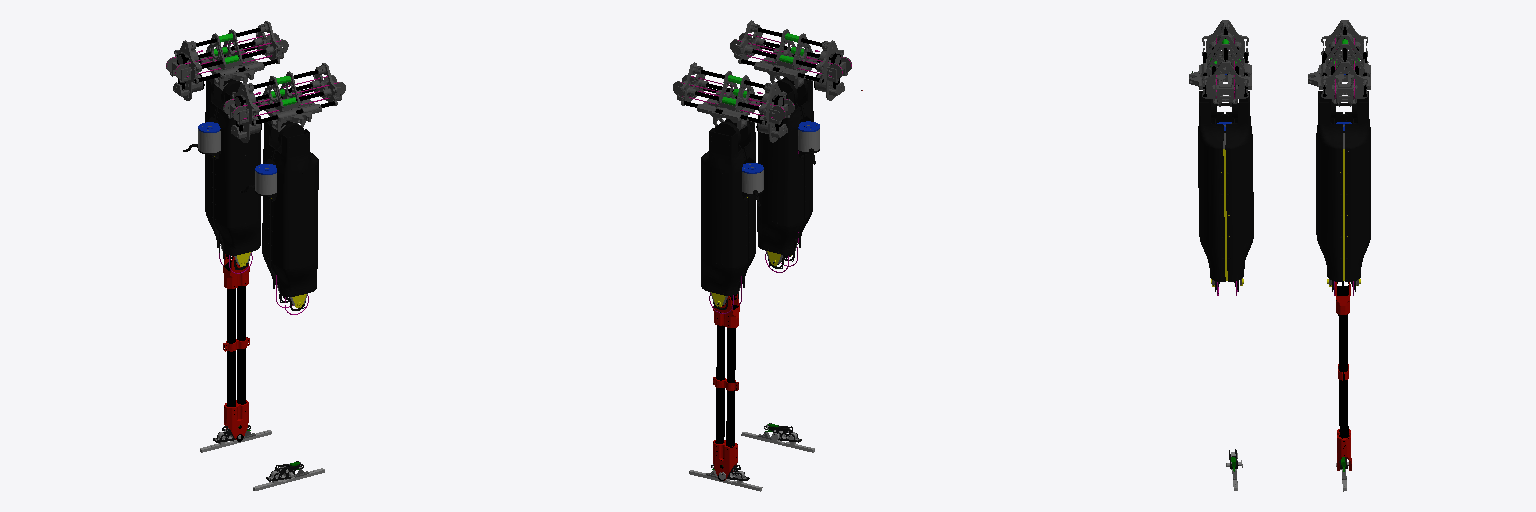
robot.urdf — mercury:
<?xml version="1.0" ?>
<robot name="mercury" xmlns:xacro="http://ros.org/wiki/xacro">
  <!-- ===== DUMMY 'BASE' LINK ==== -->
  <link name="body">
    <inertial>
      <!-- <mass value="8.9"/> -->
      <mass value="9.5"/>
      <!-- <origin xyz="0.00347 0.0 0.22524"/> -->
      <origin xyz="-0.04 0.0 0.22524"/>
      <inertia ixx="0.3006167" ixy="0" ixz="0" iyy="0.23837" iyz="0" izz="0.09690467"/>
    </inertial>
<!--      <visual>
      <geometry>
          <mesh filename="Updated_torso.3ds" scale="0.001 0.001 0.001"/>
      </geometry>
      <origin rpy="3.14159 0 1.5708" xyz="-.415 -0.21 -0.07"/>
    </visual> -->
    <visual>
      <geometry>
         <mesh filename="meshes/color_torso.dae" scale="0.001 0.001 0.001"/>
      </geometry>
      <origin rpy="1.57079 0 1.5708" xyz="-0.165 -0.21 -0.033"/>
    </visual>
  </link>
  <!-- IMU -->
  <joint name="fixed_imu" type="fixed">
    <axis xyz="0 1 0"/>
    <origin rpy="0 0 0" xyz="-0.02 -0.07 0.22"/>
    <parent link="body"/>
    <child link="imu" />
  </joint>
  <link name="imu">
    <inertial>
      <mass value="0.0000000000001"/>
      <origin xyz="0.0 0.0 0.0"/>
      <inertia ixx="0.0000000001" ixy="0" ixz="0.0" iyy="0.000000001" iyz="0" izz="0.00000000001"/>
    </inertial>
  </link>


  <!--!!!!!!!!!!!!!!!!!!!!!RIGHT LEG!!!!!!!!!!!!!!!!!!!!!!!!!!!!!!!!!!!!!!!!!!!!!!!!-->
  <joint name="1_torso_to_abduct_r_j" type="continuous">
    <axis xyz="1 0 0"/>
    <origin rpy="0 0 0" xyz="0.0 -0.1397 0.0"/>
    <parent link="body"/>
    <child link="abduct_r"/>
  </joint>
  <link name="abduct_r">
    <inertial>
      <mass value="2.1656"/>
      <origin xyz="-0.03416 -0.00075 0.04293"/>
      <inertia ixx="0.003735" ixy="0.0" ixz="0.0" iyy="0.01391" iyz="0.0" izz="0.01355"/>
    </inertial>
<!--      <visual>
      <geometry>
	      <mesh filename="abduction.3ds" scale="0.001 0.001 0.001"/>
      </geometry>
      <origin rpy="3.14159 0 1.5708" xyz="-0.167 -0.083 -0.043"/>
    </visual>  -->
    <visual>
      <geometry>
        <mesh filename="meshes/color_abduction_R.dae" scale="0.001 0.001 0.001"/>
      </geometry>
      <origin rpy="3.14159 0 1.5708" xyz="-0.181 -0.073 -0.023"/>
    </visual>
  </link>

  <joint name="abduct_r_to_thigh_r_j" type="continuous">
    <axis xyz="0 1 0"/>
    <!-- <origin rpy="0 0 0.0" xyz="0.0 0.0 -0.03535"/> -->
    <origin rpy="0.015 0.0 -0.02" xyz="0.0 0.0 -0.03535"/>
    <parent link="abduct_r"/>
    <child link="thigh_r"/>
  </joint>
  <link name="thigh_r">
    <inertial>
      <!-- <mass value="3.682"/> -->
      <mass value="3.2"/>
      <origin xyz="-0.00396 0.000018 -0.175"/>
      <inertia ixx="0.038482" ixy="0" ixz="0.0" iyy="0.039835" iyz="-0.003" izz="0.0042934"/>
    </inertial>
<!--      <visual>
      <geometry>
        <mesh filename="Updated_thigh.3ds" scale="0.001 0.001 0.001"/>
      </geometry>
      <origin rpy="3.14159 0 1.5708" xyz="-0.106 -0.062 -0.495"/>
    </visual>  -->
    <visual>
      <geometry>
        <mesh filename="meshes/color_thigh_L.dae" scale="0.001 0.001 0.001"/>
      </geometry>
      <origin rpy="3.14159 0 1.5708" xyz="-0.106 -0.062 -0.49"/>
    </visual>
  </link>

  <joint name="thigh_r_to_knee_r_j" type="continuous">
    <axis xyz="0 1 0"/>
    <!--<origin rpy="0 0 -0.05974278" xyz="0.0181 0.0 -0.4575"/>-->
    <origin rpy="0.02 0 0.04" xyz="0.0181 0.005 -0.4575"/>
    <parent link="thigh_r"/>
    <child link="shank_r"/>
  </joint>
  <link name="shank_r">
    <inertial>
      <mass value="0.649"/>
      <origin xyz="0.0 0.0 -0.235"/>
      <inertia ixx="0.00338" ixy="0" ixz="0.0" iyy="0.00338" iyz="0" izz="0.000011"/>
    </inertial>
<!--      <visual>
      <geometry>
	      <mesh filename="Updated_shin.3ds" scale="0.001 0.001 0.001"/>
      </geometry>
      <origin rpy="3.14159 1.0756 0" xyz="-0.246 0.0565 -0.093"/>
    </visual>  -->
    <visual>
      <geometry>
        <mesh filename="meshes/color_shank_R.dae" scale="0.001 0.001 0.001"/>
      </geometry>
      <origin rpy="3.14159 1.075 0" xyz="-0.218 0.0565 -0.092"/>
    </visual>
  </link>

  <joint name="ankle_r" type="continuous">
    <axis xyz="0 1 0"/>
    <origin rpy="0 0 0" xyz="0.0 0.0 -0.47"/>
    <parent link="shank_r"/>
    <child link="rfoot" />
  </joint>
  <link name="rfoot">
    <inertial>
      <mass value="0.123"/>
      <origin xyz="0.0 0.0 0.0"/>
      <inertia ixx="0.00001" ixy="0" ixz="0.0" iyy="0.00001" iyz="0" izz="0.00001"/>
    </inertial>
<!--      <visual>
      <geometry>
	      <mesh filename="Updated_foot.3ds" scale="0.001 0.001 0.001"/>
      </geometry>
      <origin rpy="3.14159 1.3808 0" xyz="-0.184 0.0558 0.398"/>
    </visual>  -->
    <visual>
      <geometry>
        <mesh filename="meshes/color_foot_R.dae" scale="1 1 1"/>
      </geometry>
      <origin rpy="1.84159 1.3608 0.275" xyz="0.090 0.028 0.454"/>
    </visual>
    <collision>
      <geometry>
        <box size="0.2 0.01 0.01"/>
      </geometry>
      <origin rpy="0.0 0.0 0.0" xyz="0.0 0.0 -0.018"/>
    </collision>
  </link>

  <!--!!!!!!!!!!!!!!!!!!!!!left LEG!!!!!!!!!!!!!!!!!!!!!!!!!!!!!!!!!!!!!!!!!!!!!!!!-->
  <joint name="2_torso_to_abduct_l_j" type="continuous">
    <axis xyz="1 0 0"/>
    <origin rpy="0 0 0" xyz="0.0 0.1397 0.0"/>
    <parent link="body"/>
    <child link="abduct_l"/>
  </joint>
  <link name="abduct_l">
    <inertial>
      <mass value="2.1656"/>
      <origin xyz="-0.03416 0.00075 0.04293"/>
      <inertia ixx="0.003735" ixy="0.0" ixz="0.0" iyy="0.01391" iyz="0.0" izz="0.01355"/>
    </inertial>
    <!-- <visual>
      <geometry>
	      <mesh filename="abduction.3ds" scale="0.001 0.001 0.001"/>
      </geometry>
      <origin rpy="3.14159 0 1.5708" xyz="-0.167 -0.083 -0.043"/>
    </visual> -->
    <visual>
      <geometry>
        <mesh filename="meshes/color_abduction_L.dae" scale="0.001 0.001 0.001"/>
      </geometry>
      <!-- <origin rpy="1.5708 0 1.5708" xyz="0.0 0.0 -0.038"/> -->
      <origin rpy="3.14159 0 1.5708" xyz="-0.181 -0.073 -0.023"/>
    </visual>
  </link>

  <joint name="abduct_l_to_thigh_l_j" type="continuous">
    <axis xyz="0 1 0"/>
    <origin rpy="0.0 0 0.01" xyz="0.0 0.0 -0.03535"/>
    <parent link="abduct_l"/>
    <child link="thigh_l"/>
  </joint>
  <link name="thigh_l">
    <inertial>
      <!-- <mass value="3.682"/> -->
      <mass value="3.2"/>
      <!-- <origin xyz="-0.00396 -0.000018 -0.24"/> -->
      <origin xyz="-0.00396 -0.000018 -0.175"/>
      <inertia ixx="0.038482" ixy="0" ixz="0.0" iyy="0.039835" iyz="0" izz="0.0042934"/>
    </inertial>
    <!-- <visual>
      <geometry>
	      <mesh filename="Updated_thigh.3ds" scale="0.001 0.001 0.001"/>
      </geometry>
      <origin rpy="3.14159 0 1.5708" xyz="-0.106 -0.062 -0.495"/>
    </visual>  -->
    <visual>
      <geometry>
        <mesh filename="meshes/color_thigh_L.dae" scale="0.001 0.001 0.001"/>
      </geometry>
      <origin rpy="3.14159 0 1.5708" xyz="-0.106 -0.062 -0.49"/>
    </visual>
  </link>

  <joint name="thigh_l_to_knee_l_j" type="continuous">
    <axis xyz="0 1 0"/>
    <!--<origin rpy="0 0 -0.00472424" xyz="0.0181 0.0 -0.4575"/>-->
    <origin rpy=" 0.008 0 0.00" xyz="0.0181 -0.005 -0.4575"/>
    <parent link="thigh_l"/>
    <child link="shank_l"/>
    <!--    <dynamics damping="1.0"/>-->
  </joint>
  <link name="shank_l">
    <inertial>
      <mass value="0.649"/>
      <origin xyz="0.0 0.0 -0.235"/>
      <inertia ixx="0.00338" ixy="0" ixz="0.0" iyy="0.00338" iyz="0" izz="0.000011"/>
    </inertial>
    <!-- <visual>
      <geometry>
	      <mesh filename="Updated_shin.3ds" scale="0.001 0.001 0.001"/>
      </geometry>
      <origin rpy="3.14159 1.0756 0" xyz="-0.246 0.0565 -0.093"/>
    </visual> --> 
    <visual>
      <geometry>
        <mesh filename="meshes/color_shank_L.dae" scale="0.001 0.001 0.001"/>
      </geometry>
      <!-- <origin rpy="1.5708 1.075 0" xyz="-0.043 0.0565 -0.015"/> -->
      <origin rpy="3.14159 1.075 0" xyz="-0.218 0.0605 -0.092"/>
    </visual>
  </link>

  <joint name="ankle_l" type="continuous">
    <axis xyz="0 1 0"/>
    <origin rpy="0 0 0" xyz="0.0 -0.0165 -0.47"/>
    <parent link="shank_l"/>
    <child link="lfoot" />
  </joint>
  <link name="lfoot">
    <inertial>
      <mass value="0.123"/>
      <origin xyz="0.0 0.0 0.0"/>
      <inertia ixx="0.00001" ixy="0" ixz="0.0" iyy="0.00001" iyz="0" izz="0.00001"/>
    </inertial>
<!--     <visual>
      <geometry>
	      <mesh filename="Updated_foot.3ds" scale="0.001 0.001 0.001"/>
      </geometry>
      <origin rpy="3.14159 1.3808 0" xyz="-0.184 0.0558 0.398"/>
    </visual>  -->
    <visual>
      <geometry>
        <mesh filename="meshes/color_foot_L.dae" scale="1 1 1"/>
      </geometry>
      <!-- <origin rpy="1.5708 1.38 0" xyz="0.095 0.0698 0.450"/> -->
      <origin rpy="1.84159 1.3608 0.275" xyz="0.090 0.0508 0.454"/>
    </visual>
    <collision>
      <geometry>
        <box size="0.2 0.01 0.01"/>
      </geometry>
      <origin rpy="0.0 0.0 0.0" xyz="0.0 0.0 -0.018"/>
    </collision>
  </link>

  <!--!!!!!!!!!!!!!!!!!!!!! LED !!!!!!!!!!!!!!!!!!!!!!!!!!!!!!!!!!-->
  <!-- LED_Body 0: attached on the body front -->
  <joint name="fixed_bodyled0" type="fixed">
    <axis xyz="0 1 0"/>
    <origin rpy="0 0 0" xyz="0.077 0.0 0.0"/>
    <parent link="body"/>
    <child link="body_led0" />
  </joint>
  <link name="body_led0">
    <inertial>
      <mass value="0.000000000001"/>
      <origin xyz="0.0 0.0 0.0"/>
      <inertia ixx="0.000000001" ixy="0" ixz="0.0" iyy="0.00000000338" iyz="0" izz="0.000000000011"/>
    </inertial>
  </link>

    <!-- LED_Body 1: attached on the body front -->
  <joint name="fixed_bodyled1" type="fixed">
    <axis xyz="0 1 0"/>
    <origin rpy="0 0 0" xyz="0.077 0.142 0.3"/>
    <parent link="body"/>
    <child link="body_led1" />
  </joint>
  <link name="body_led1">
    <inertial>
      <mass value="0.000000000001"/>
      <origin xyz="0.0 0.0 0.0"/>
      <inertia ixx="0.000000001" ixy="0" ixz="0.0" iyy="0.00000000338" iyz="0" izz="0.000000000011"/>
    </inertial>
  </link>

  <!-- LED_Body 2: attached on the body front -->
  <joint name="fixed_bodyled2" type="fixed">
    <axis xyz="0 1 0"/>
    <origin rpy="0 0 0" xyz="0.077 -0.142 0.3"/>
    <parent link="body"/>
    <child link="body_led2" />
  </joint>
  <link name="body_led2">
    <inertial>
      <mass value="0.000000000001"/>
      <origin xyz="0.0 0.0 0.0"/>
      <inertia ixx="0.000000001" ixy="0" ixz="0.0" iyy="0.00000000338" iyz="0" izz="0.000000000011"/>
    </inertial>
  </link>

  <!-- LED_Right 0: On the Right thigh upper -->
  <joint name="fixed_led1" type="fixed">
    <axis xyz="0 1 0"/>
    <origin rpy="0 0 0" xyz="0.075 0.0 -0.093"/>
    <parent link="thigh_r"/>
    <child link="rleg_led0" />
  </joint>
  <link name="rleg_led0">
    <inertial>
      <mass value="0.000000000001"/>
      <origin xyz="0.0 0.0 0.0"/>
      <inertia ixx="0.000000001" ixy="0" ixz="0.0" iyy="0.00000000338" iyz="0" izz="0.000000000011"/>
    </inertial>
  </link>

  <!-- LED_Right 1: On the Right thigh lower -->
  <joint name="fixed_led2" type="fixed">
    <axis xyz="0 1 0"/>
    <origin rpy="0 0 0" xyz="0.075 0.005 -0.42"/>
    <parent link="thigh_r"/>
    <child link="rleg_led1" />
  </joint>
  <link name="rleg_led1">
    <inertial>
      <mass value="0.000000000001"/>
      <origin xyz="0.0 0.0 0.0"/>
      <inertia ixx="0.000000001" ixy="0" ixz="0.0" iyy="0.000000001" iyz="0" izz="0.000000000011"/>
    </inertial>
  </link>

  <!-- LED_Right 2: On the Right Shank upper -->
  <joint name="fixed_led3" type="fixed">
    <axis xyz="0 1 0"/>
    <origin rpy="0 0 0" xyz="0.0 -0.02 -0.060"/>
    <parent link="shank_r"/>
    <child link="rleg_led2" />
  </joint>
  <link name="rleg_led2">
    <inertial>
      <mass value="0.000000000001"/>
      <origin xyz="0.0 0.0 0.0"/>
      <inertia ixx="0.000000001" ixy="0" ixz="0.0" iyy="0.00000000338" iyz="0" izz="0.000000000011"/>
    </inertial>
  </link>

  <!-- LED_Right 3: On the Right Shank lower (foot) -->
  <joint name="fixed_led4" type="fixed">
    <axis xyz="0 1 0"/>
    <origin rpy="0 0 0" xyz="0.0 -0.0365 -0.47"/>
    <parent link="shank_r"/>
    <child link="rleg_led3" />
  </joint>
  <link name="rleg_led3">
    <inertial>
      <mass value="0.000000000001"/>
      <origin xyz="0.0 0.0 0.0"/>
      <inertia ixx="0.000000001" ixy="0" ixz="0.0" iyy="0.00000000338" iyz="0" izz="0.000000000011"/>
    </inertial>
  </link>

  <!-- LED_Left 0: On the Left thigh upper -->
  <joint name="fixed_led6" type="fixed">
    <axis xyz="0 1 0"/>
    <origin rpy="0 0 0" xyz="0.075 0.0 -0.098"/>
    <parent link="thigh_l"/>
    <child link="lleg_led0" />
  </joint>
  <link name="lleg_led0">
    <inertial>
      <mass value="0.000000000001"/>
      <origin xyz="0.0 0.0 0.0"/>
      <inertia ixx="0.000000001" ixy="0" ixz="0.0" iyy="0.00000000338" iyz="0" izz="0.000000000011"/>
    </inertial>
  </link>

  <!-- LED_Left 1: On the Left thigh lower -->
  <joint name="fixed_led7" type="fixed">
    <axis xyz="0 1 0"/>
    <origin rpy="0 0 0" xyz="0.075 -0.005 -0.42"/>
    <parent link="thigh_l"/>
    <child link="lleg_led1" />
  </joint>
  <link name="lleg_led1">
    <inertial>
      <mass value="0.000000000001"/>
      <origin xyz="0.0 0.0 0.0"/>
      <inertia ixx="0.000000001" ixy="0" ixz="0.0" iyy="0.000000001" iyz="0" izz="0.000000000011"/>
    </inertial>
  </link>

  <!-- LED_Left 2: On the Left Shank upper -->
  <joint name="fixed_led8" type="fixed">
    <axis xyz="0 1 0"/>
    <origin rpy="0 0 0" xyz="0.0 0.02 -0.062"/>
    <parent link="shank_l"/>
    <child link="lleg_led2" />
  </joint>
  <link name="lleg_led2">
    <inertial>
      <mass value="0.000000000001"/>
      <origin xyz="0.0 0.0 0.0"/>
      <inertia ixx="0.000000001" ixy="0" ixz="0.0" iyy="0.00000000338" iyz="0" izz="0.000000000011"/>
    </inertial>
  </link>

  <!-- LED_Left 3: On the Left Shank lower -->
  <joint name="fixed_led9" type="fixed">
    <axis xyz="0 1 0"/>
    <origin rpy="0 0 0" xyz="0.0 0.02 -0.47"/> <!-- -0.0165 m in for y direction -->
    <parent link="shank_l"/>
    <child link="lleg_led3" />
  </joint>
  <link name="lleg_led3">
    <inertial>
      <mass value="0.000000000001"/>
      <origin xyz="0.0 0.0 0.0"/>
      <inertia ixx="0.000000001" ixy="0" ixz="0.0" iyy="0.00000000338" iyz="0" izz="0.000000000011"/>
    </inertial>
  </link>

</robot>

--- What the picture shows (computed from the rendered views, not written in the file) ---
Views: 3 orthographic renders of the robot side by side, from view 1: azimuth 30°, elevation 25°; view 2: azimuth 150°, elevation 25°; view 3: azimuth 270°, elevation 25°.
Model mercury with 21 links and 20 joints (8 continuous, 12 fixed), rooted at body, posed every joint at zero.
Links seen in each view (by area): view 1: thigh_r, thigh_l, abduct_r, abduct_l, shank_l, rfoot, lfoot; view 2: thigh_l, thigh_r, abduct_r, abduct_l, shank_l, rfoot, lfoot; view 3: thigh_r, thigh_l, abduct_r, abduct_l, shank_l.
Boxes of the visible links, x1=… form: thigh_r: x1=240, y1=121, x2=318, y2=314; thigh_l: x1=183, y1=79, x2=260, y2=273; abduct_r: x1=223, y1=63, x2=345, y2=142; abduct_l: x1=166, y1=21, x2=288, y2=100; shank_l: x1=223, y1=254, x2=249, y2=441; rfoot: x1=253, y1=461, x2=324, y2=490; lfoot: x1=200, y1=425, x2=271, y2=452; thigh_l: x1=701, y1=119, x2=763, y2=313; thigh_r: x1=757, y1=77, x2=819, y2=272; abduct_r: x1=730, y1=20, x2=851, y2=100; abduct_l: x1=673, y1=62, x2=794, y2=142; shank_l: x1=713, y1=294, x2=739, y2=480; rfoot: x1=741, y1=423, x2=814, y2=452; lfoot: x1=689, y1=464, x2=762, y2=491; thigh_r: x1=1198, y1=91, x2=1253, y2=295; thigh_l: x1=1316, y1=91, x2=1370, y2=295; abduct_r: x1=1189, y1=20, x2=1251, y2=106; abduct_l: x1=1308, y1=20, x2=1370, y2=106; shank_l: x1=1335, y1=281, x2=1351, y2=470.
Bounding box of the posed robot: 0.3168 × 0.4277 × 1.11 m (x, y, z).
8 mesh visuals loaded from 8 distinct referenced files (7 Collada DAE); not drawn: 1 (reference not matched to a file when rendering).
